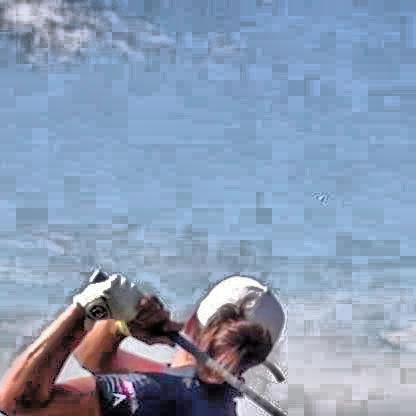golfball: (315, 192, 323, 199)
